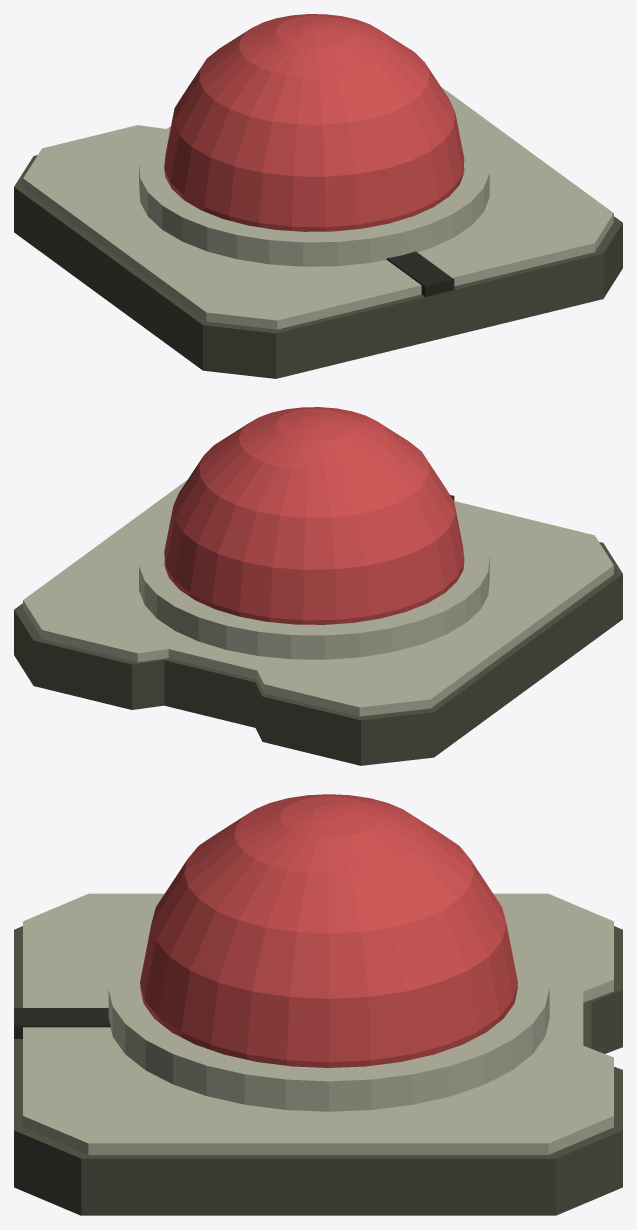
The model's file is vge_mech_overshield.obj.
3 views of the same model, one above another, from view 1: azimuth 30°, elevation 25°; view 2: azimuth 150°, elevation 25°; view 3: azimuth 270°, elevation 25° (orthographic). The views are drawn at different scales.
Parts seen in each view (by area): view 1: vge_mech_overshield_4, vge_mech_overshield_1, vge_mech_overshield_0, vge_mech_overshield_3, vge_mech_overshield_2; view 2: vge_mech_overshield_4, vge_mech_overshield_1, vge_mech_overshield_0, vge_mech_overshield_3; view 3: vge_mech_overshield_4, vge_mech_overshield_1, vge_mech_overshield_0, vge_mech_overshield_3, vge_mech_overshield_2.
Part boxes in pixels (left/top/right/bottom): vge_mech_overshield_4: left=164, top=14, right=464, bottom=231; vge_mech_overshield_1: left=23, top=87, right=613, bottom=329; vge_mech_overshield_0: left=14, top=155, right=622, bottom=378; vge_mech_overshield_3: left=139, top=126, right=489, bottom=266; vge_mech_overshield_2: left=386, top=251, right=454, bottom=296; vge_mech_overshield_4: left=164, top=407, right=464, bottom=624; vge_mech_overshield_1: left=23, top=479, right=613, bottom=716; vge_mech_overshield_0: left=14, top=542, right=622, bottom=765; vge_mech_overshield_3: left=139, top=519, right=489, bottom=659; vge_mech_overshield_4: left=140, top=794, right=517, bottom=1067; vge_mech_overshield_1: left=23, top=893, right=613, bottom=1154; vge_mech_overshield_0: left=14, top=926, right=622, bottom=1215; vge_mech_overshield_3: left=108, top=935, right=549, bottom=1111; vge_mech_overshield_2: left=14, top=1008, right=110, bottom=1038.
Size of the model in its own units: 2.9 by 1.45 by 2.9.
